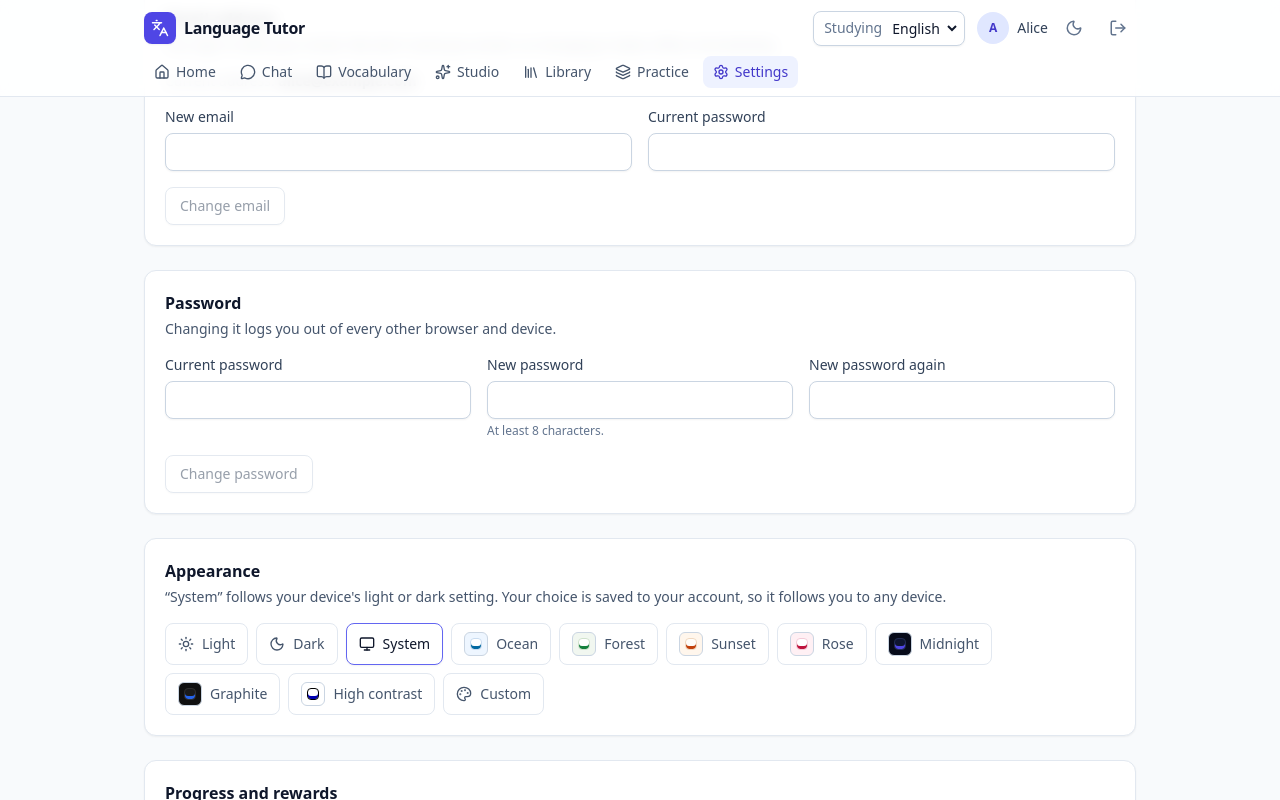
Scenario: settings: password › won't submit until the new password is long enough and typed twice the same
(page scrolled)
Type "password123" into the 2nd password field labelled "Current password".
click(318, 400); type("password123")  # box [165,381,471,419]
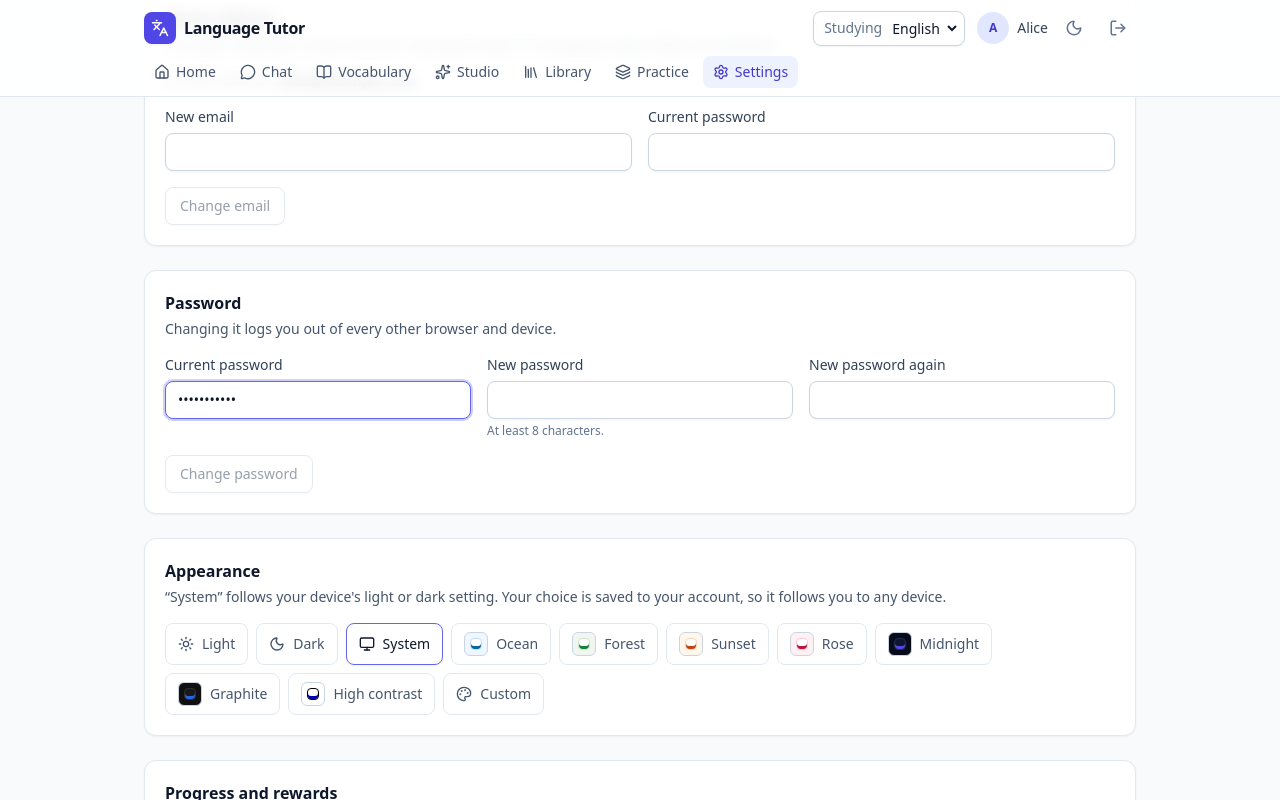
Type "short" into the password field labelled "New password".
click(640, 400); type("short")  # box [487,381,793,419]
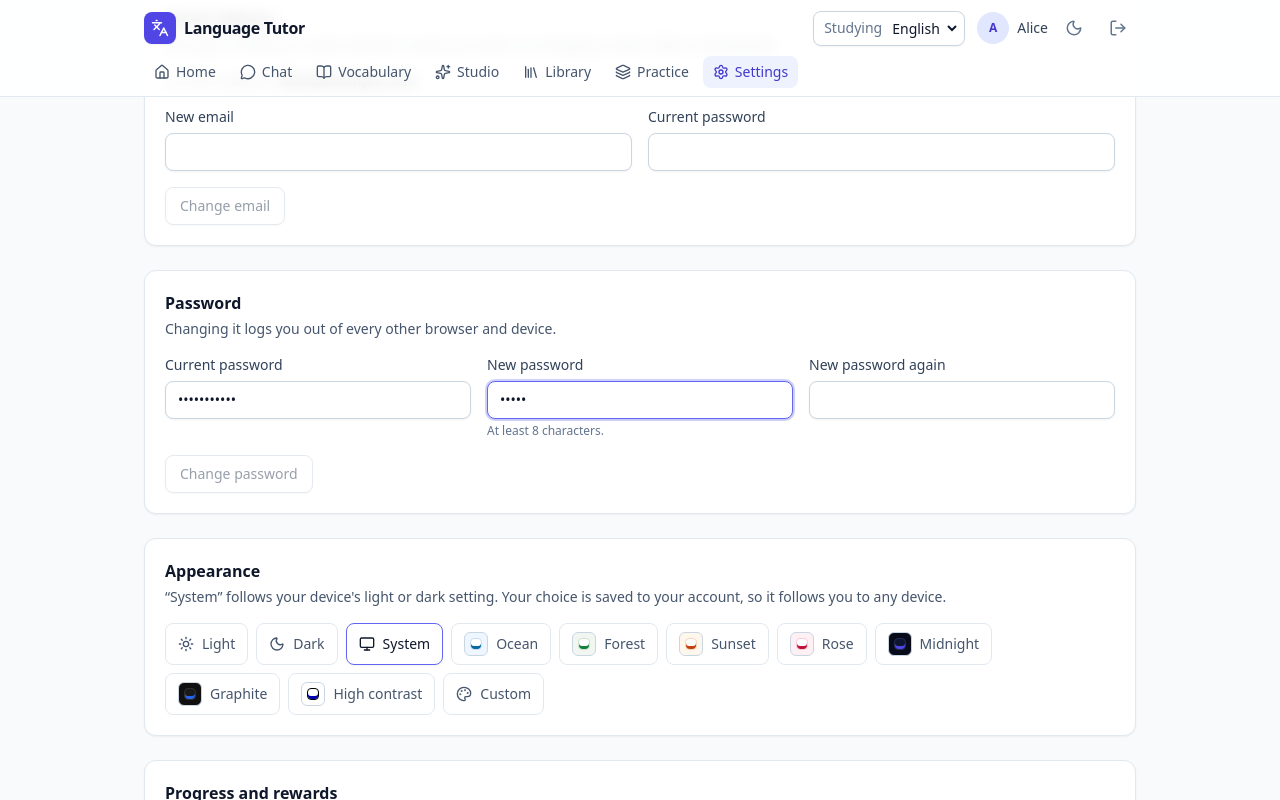
Expected: the button "Change password" is disabled, [165,455,313,493]
Type "a-new-password" into the password field labelled "New password".
click(640, 400); type("a-new-password")  # box [487,381,793,419]
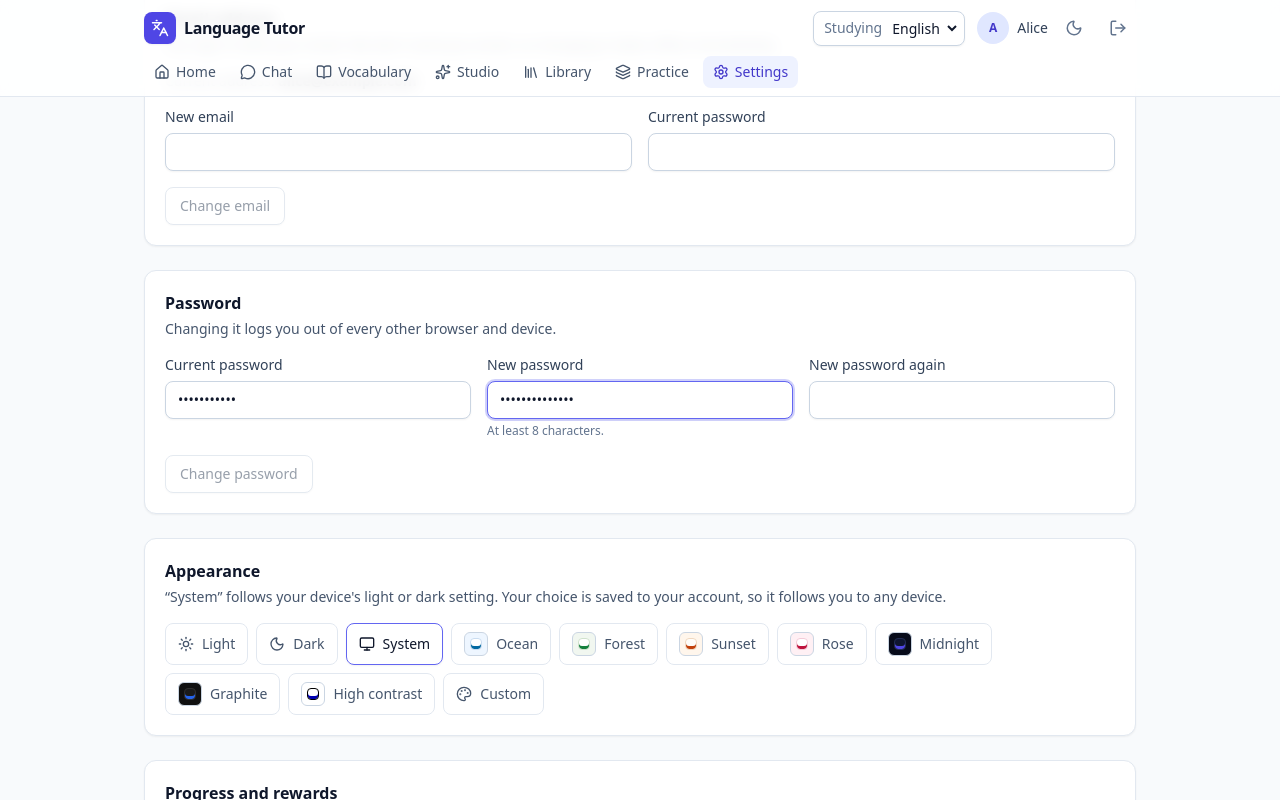
Type "a-different-one" into the password field labelled "New password again".
click(962, 400); type("a-different-one")  # box [809,381,1115,419]
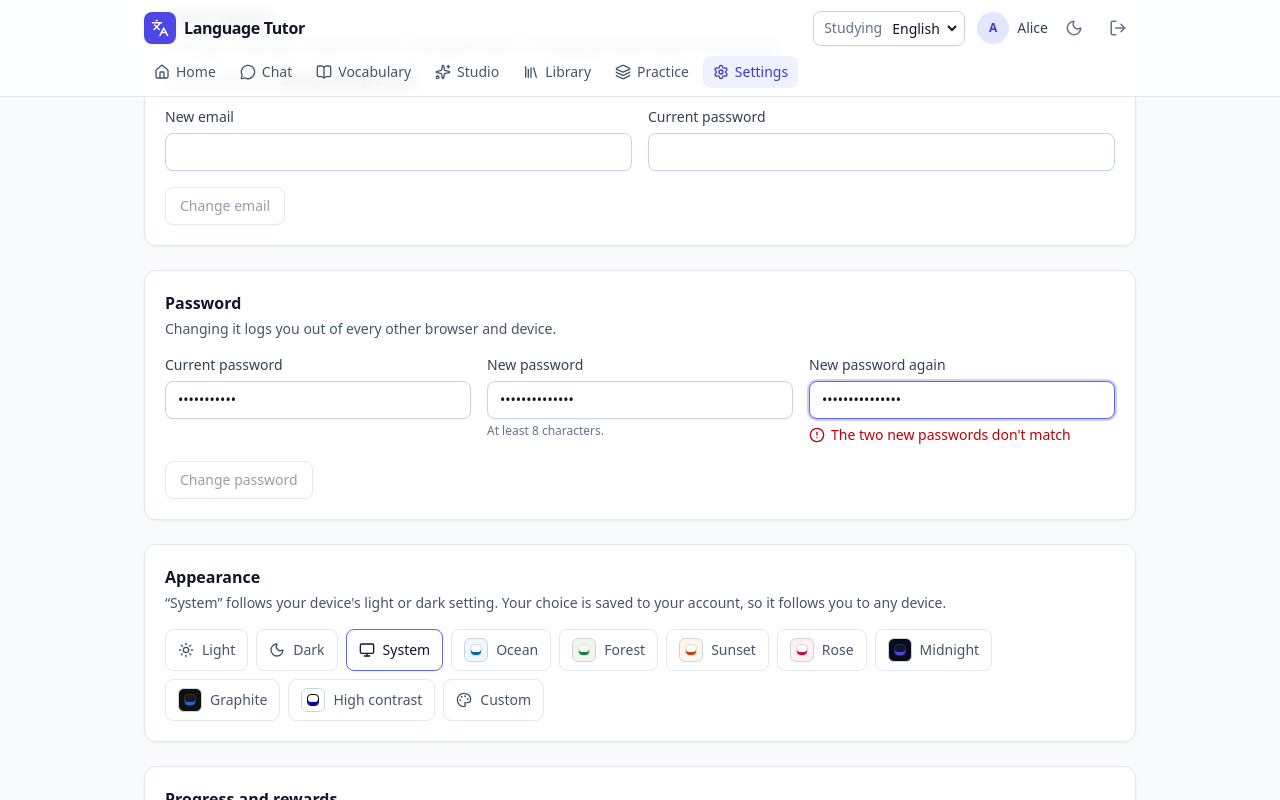
Expected: the button "Change password" is disabled, [165,461,313,499]
Expected: the text "The two new passwords don't match" is shown, [831,425,1071,445]
Type "a-new-password" into the password field labelled "New password again".
click(962, 400); type("a-new-password")  # box [809,381,1115,419]
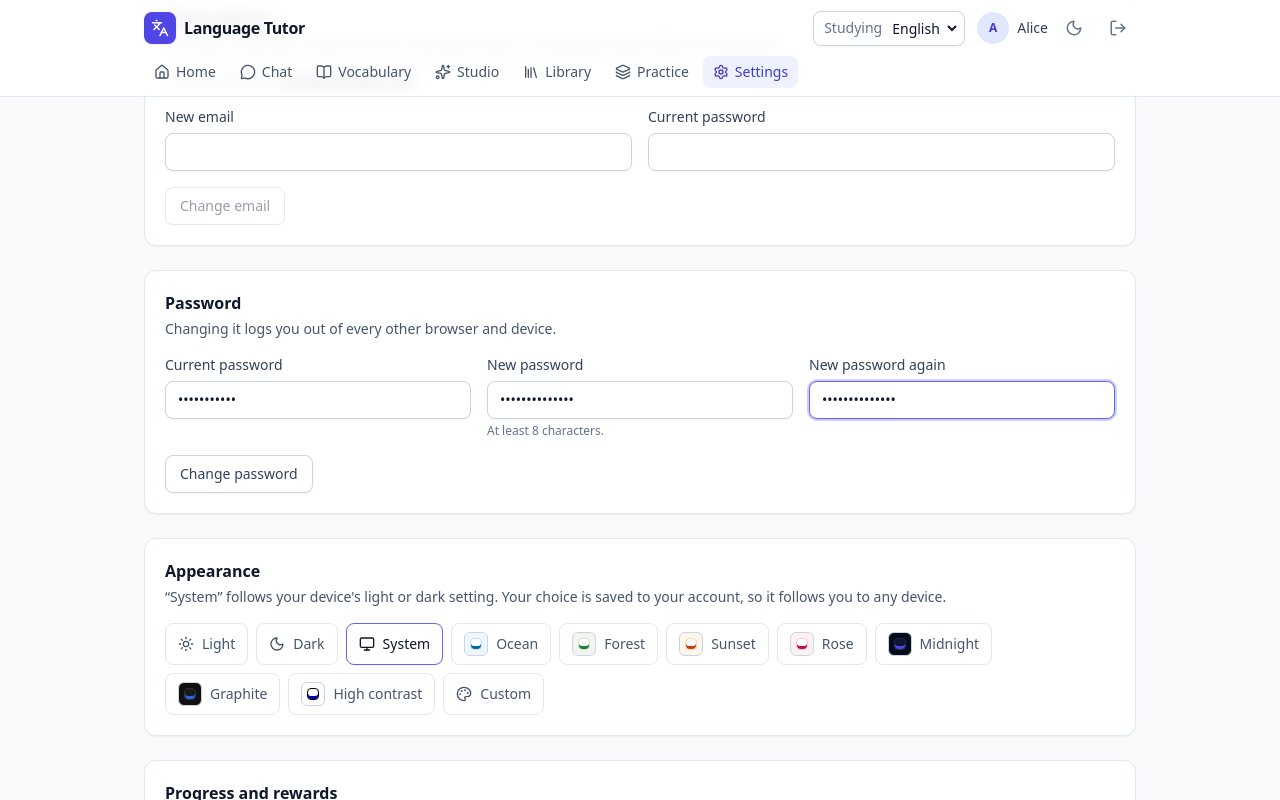
Expected: the button "Change password" is enabled
Click the button "Change password".
click(239, 474)  # box [165,455,313,493]
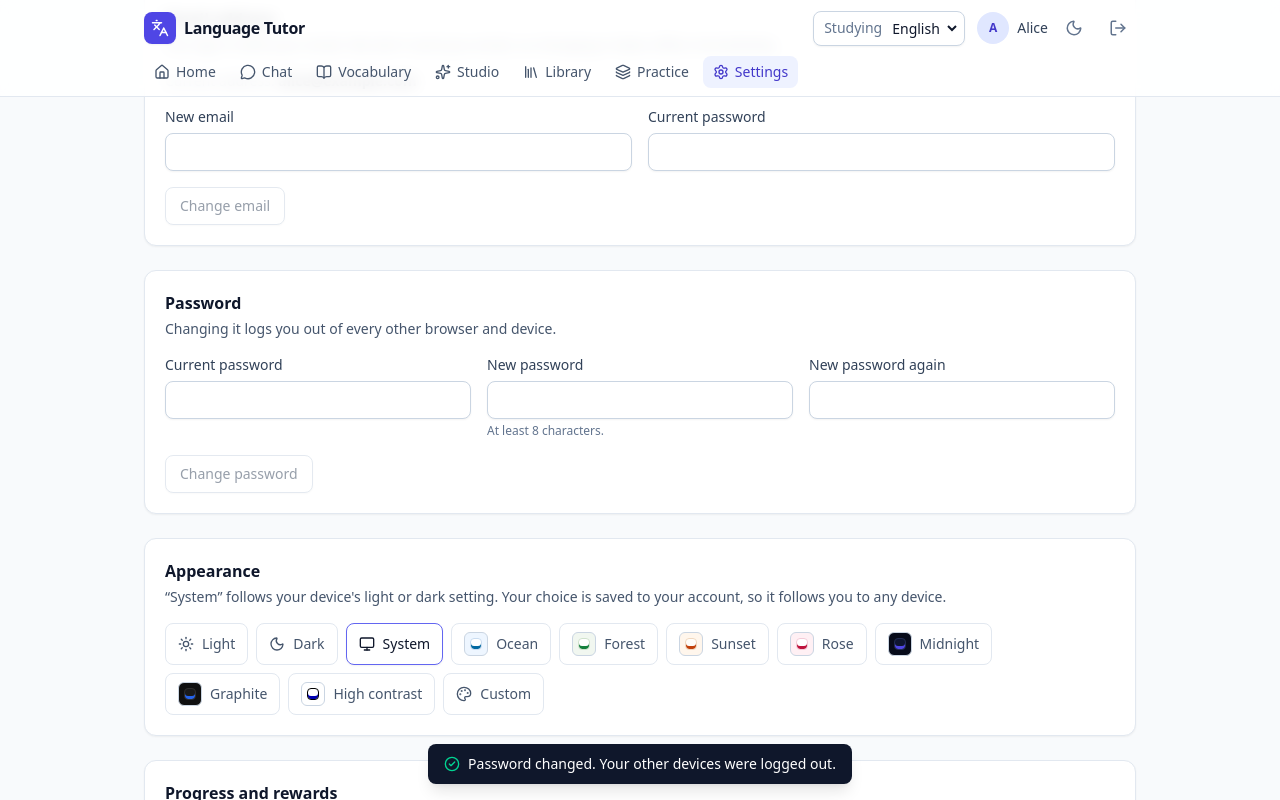
Expected: the text "Password changed. Your other devices were logged out." is shown, [428,744,852,784]
